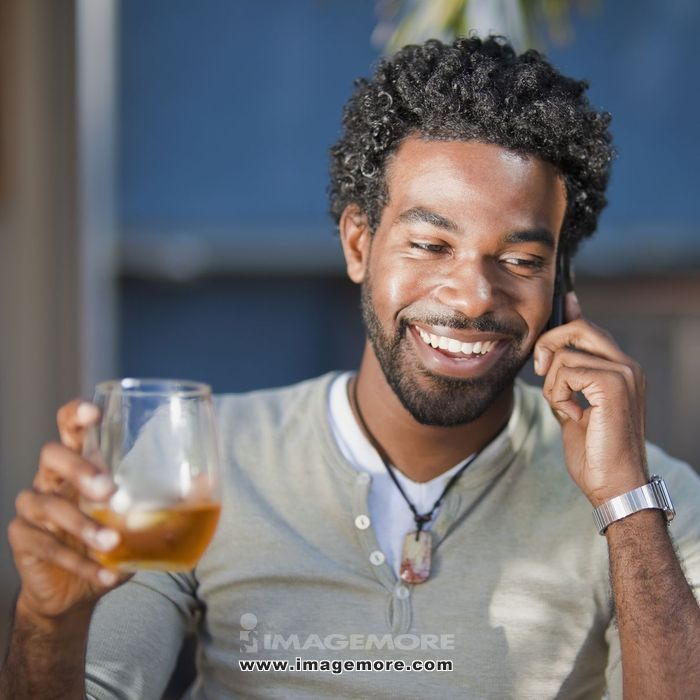phone: (547, 251, 611, 395)
talk: (373, 195, 666, 498)
